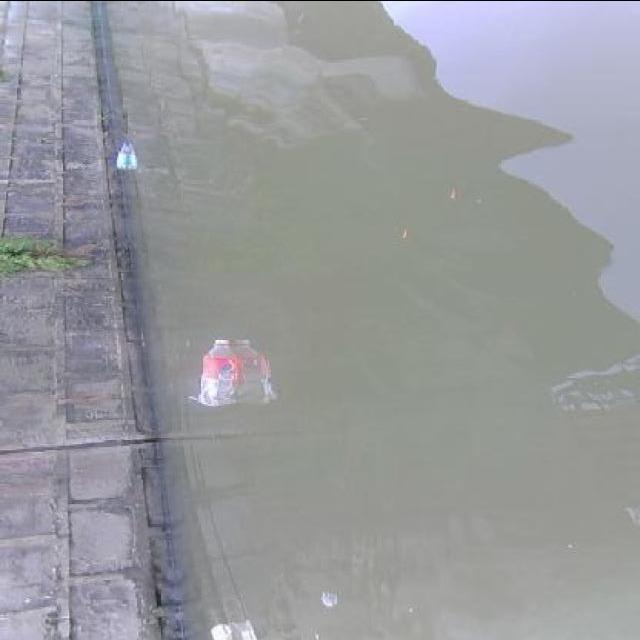Bottle: (194, 328, 252, 408)
